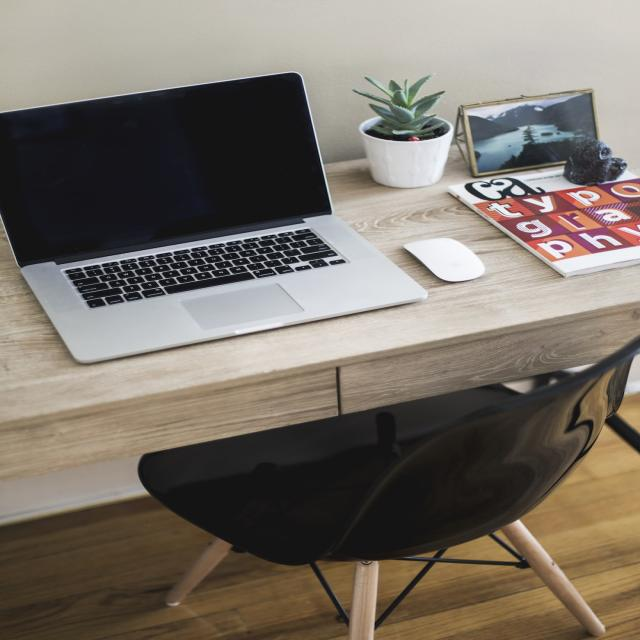keyboard: (37, 220, 424, 363)
